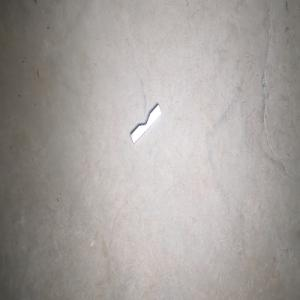ClampPart: (130, 103, 162, 144)
